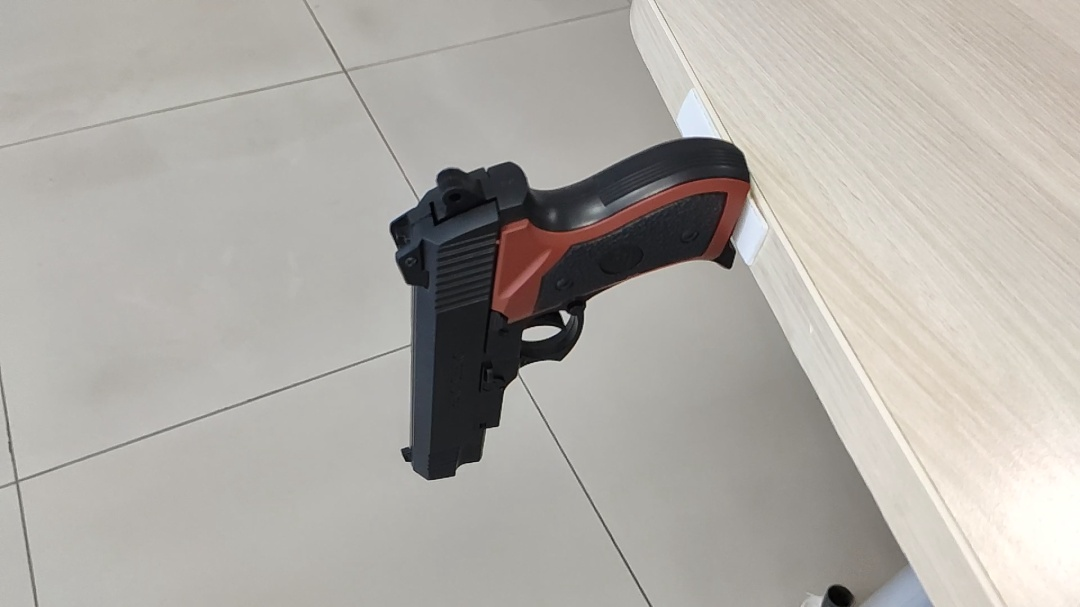gun: (587, 218, 718, 307)
